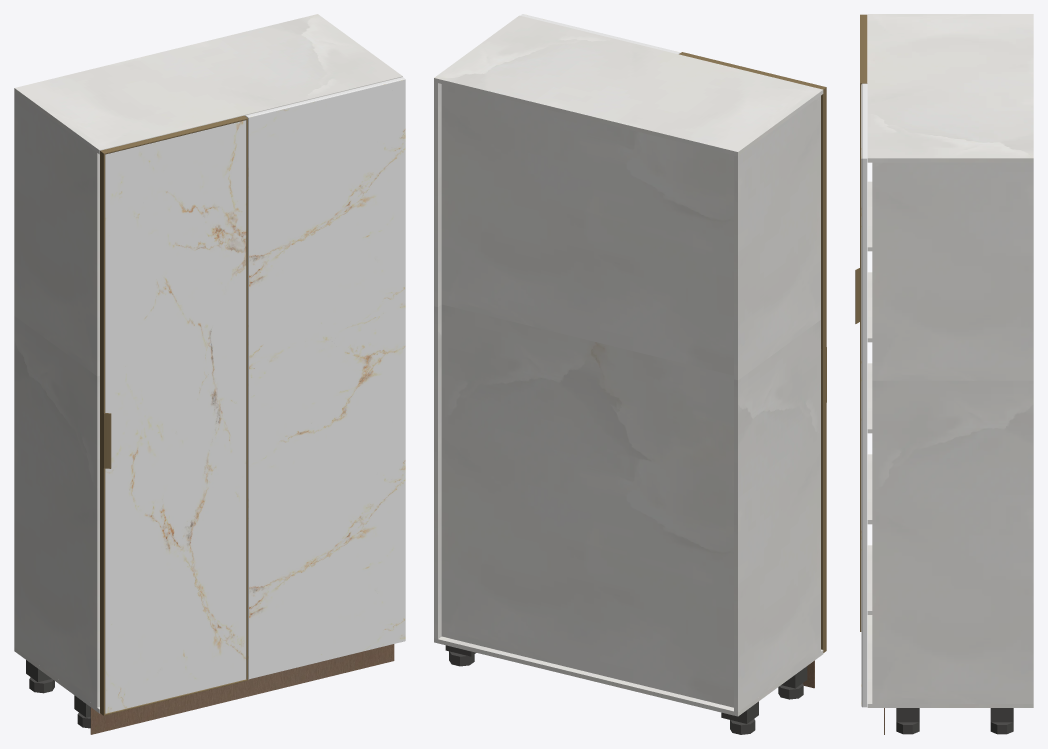
Rendered from TB-SH-TTS-ST-5SX-RHS-XXX-1150-2040-560-15.glb.
The picture shows the model from 3 angles, left to right: view 1: azimuth 30°, elevation 25°; view 2: azimuth 150°, elevation 25°; view 3: azimuth 270°, elevation 25°; orthographic projection. The views are drawn at different scales.
Visible parts, largest first — view 1: TP_node_7, Object_node_15, TP_node_0, TP, Object_node_17, Extrusion_node_1, Extrusion_node, Extrusion; view 2: TP_node_8, TP_node_0, TP, TP_node_1, Extrusion_node_1, TP_node; view 3: TP_node_1, TP, ALU PROF FOR SHUTTER 851P IMP, TP_node, Extrusion_node, TP_node_7, Extrusion, ALU PROF FOR SHUTTER 851P IMP_node_1, TP_node_3, TP_node_4, TP_node_5, TP_node_6 (+3 smaller).
Boxes of the visible parts, <box> form: TP_node_7: <box>248,79,405,679</box>; Object_node_15: <box>105,120,246,713</box>; TP_node_0: <box>14,92,99,707</box>; TP: <box>14,14,402,154</box>; Object_node_17: <box>90,644,394,734</box>; Extrusion_node_1: <box>100,151,105,715</box>; Extrusion_node: <box>246,119,247,680</box>; Extrusion: <box>100,115,247,154</box>; TP_node_8: <box>441,84,733,707</box>; TP_node_0: <box>734,96,820,712</box>; TP: <box>434,15,823,155</box>; TP_node_1: <box>434,82,441,638</box>; Extrusion_node_1: <box>821,87,826,652</box>; TP_node: <box>434,636,823,716</box>; TP_node_1: <box>872,162,1033,703</box>; TP: <box>867,14,1033,162</box>; ALU PROF FOR SHUTTER 851P IMP: <box>862,158,867,707</box>; TP_node: <box>867,615,1033,707</box>; Extrusion_node: <box>860,83,867,631</box>; TP_node_7: <box>861,84,861,706</box>; Extrusion: <box>860,14,867,83</box>; ALU PROF FOR SHUTTER 851P IMP_node_1: <box>862,83,867,158</box>; TP_node_3: <box>867,454,872,524</box>; TP_node_4: <box>867,363,872,433</box>; TP_node_5: <box>867,272,872,342</box>; TP_node_6: <box>867,181,872,251</box>.
Size of what is drawn, in the model's own units: 1.15 by 2.14 by 0.6.
Materials: 7 (3 with a texture image).
